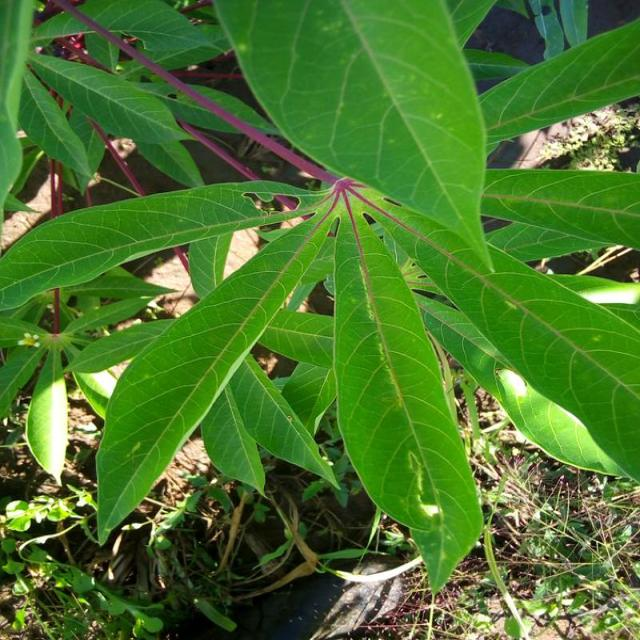cassava leaf: (2, 0, 638, 594), (94, 211, 338, 546), (213, 0, 493, 271), (330, 205, 484, 594)
